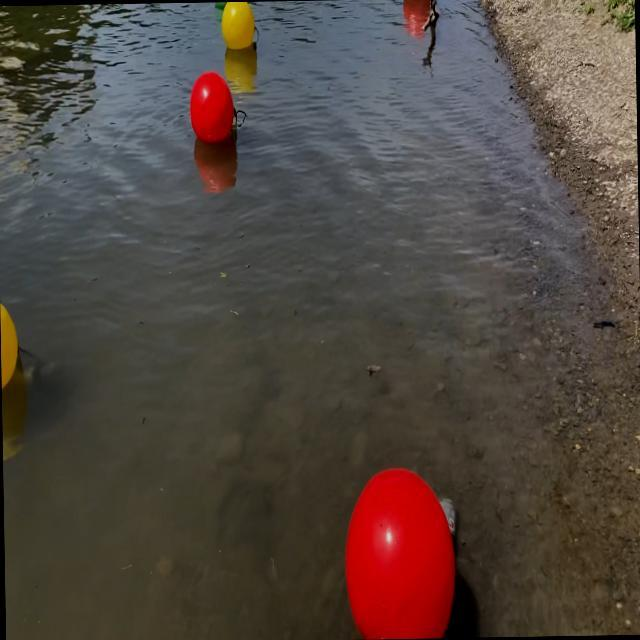buoy: (339, 462, 462, 640), (188, 67, 238, 146), (0, 292, 22, 397), (220, 1, 258, 51)
